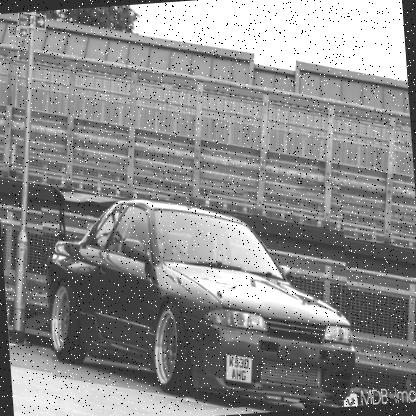Car: (41, 186, 357, 415)
